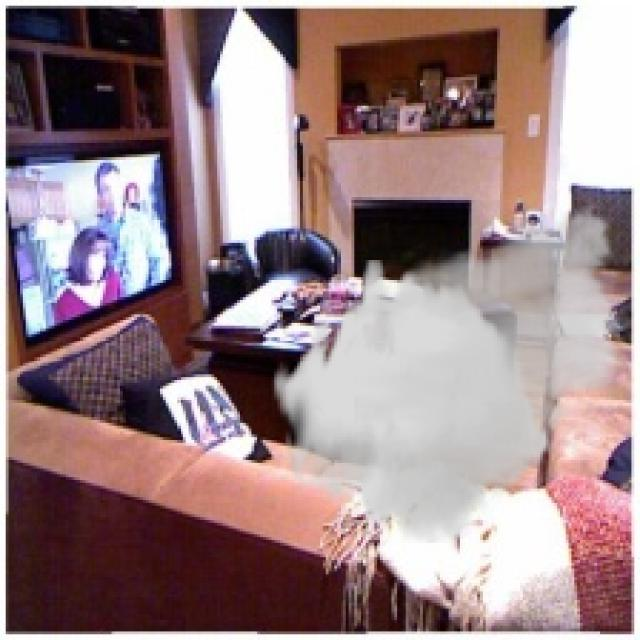smoke: (272, 194, 634, 543)
